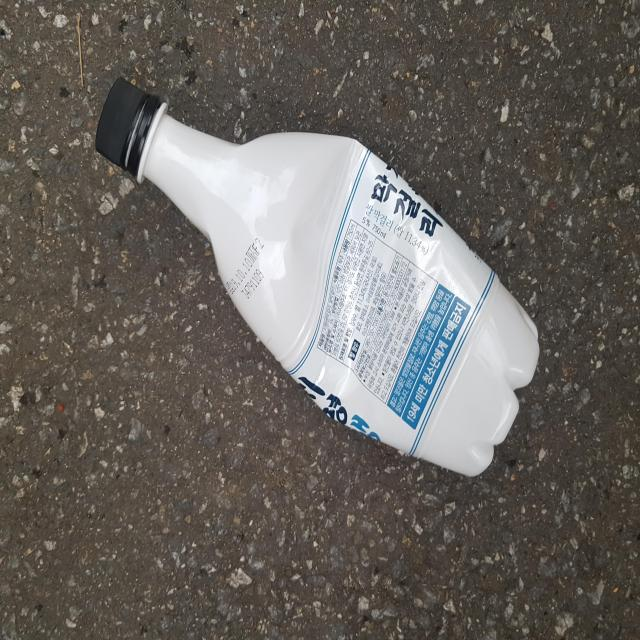bottle: (90, 64, 546, 478)
